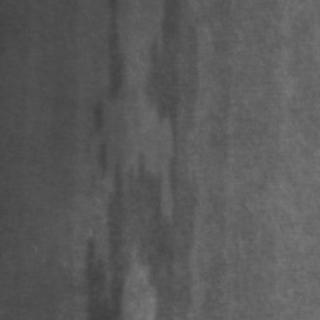inclusion: (74, 149, 186, 317), (143, 1, 203, 186), (78, 2, 126, 142)
